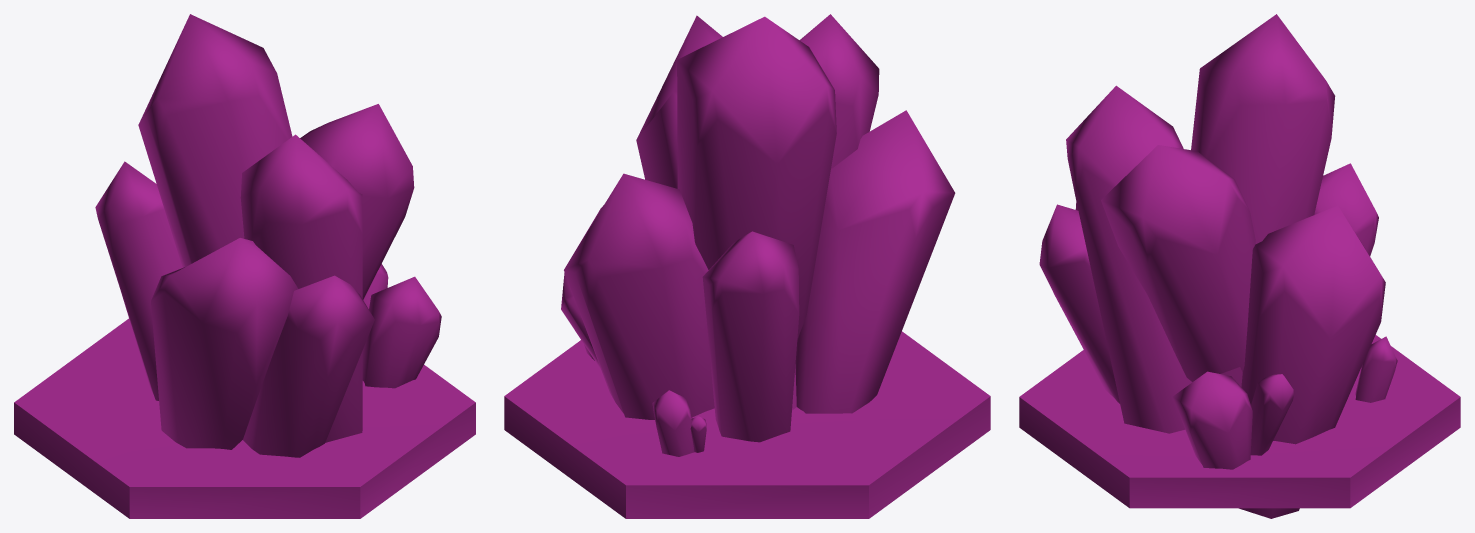
File: cristals.fbx
The picture shows the model from 3 angles, left to right: view 1: azimuth 30°, elevation 25°; view 2: azimuth 150°, elevation 25°; view 3: azimuth 270°, elevation 25°; orthographic projection. The views are drawn at different scales.
Parts seen in each view (by area): view 1: Cylinder.064, Cylinder.058, Cylinder.063, Cylinder.065, Cylinder.060, Cylinder.062, Cylinder.061, Cylinder.066; view 2: Cylinder.064, Cylinder.058, Cylinder.063, Cylinder.059, Cylinder.061, Cylinder.065, Cylinder.062, Cylinder.067, Cylinder.069; view 3: Cylinder.064, Cylinder.062, Cylinder.059, Cylinder.058, Cylinder.065, Cylinder.060, Cylinder.066, Cylinder.061, Cylinder.069, Cylinder.067.
Boxes of the visible parts, x1,y1,x2,y2 form: Cylinder.064: (14,318,475,518); Cylinder.058: (138,14,292,267); Cylinder.063: (151,238,298,449); Cylinder.065: (240,134,362,442); Cylinder.060: (243,275,374,457); Cylinder.062: (300,104,414,299); Cylinder.061: (95,161,182,400); Cylinder.066: (362,276,441,388); Cylinder.064: (504,331,990,518); Cylinder.058: (677,16,836,339); Cylinder.063: (795,110,955,413); Cylinder.059: (564,173,714,419); Cylinder.061: (702,231,799,442); Cylinder.065: (799,14,879,168); Cylinder.062: (636,15,796,410); Cylinder.067: (652,390,694,456); Cylinder.069: (561,272,600,368); Cylinder.064: (1019,335,1460,508); Cylinder.062: (1101,145,1255,381); Cylinder.059: (1239,205,1385,518); Cylinder.058: (1191,14,1335,386); Cylinder.065: (1066,85,1192,433); Cylinder.060: (1039,204,1119,403); Cylinder.066: (1172,371,1252,469); Cylinder.061: (1314,163,1378,256); Cylinder.069: (1250,374,1293,455); Cylinder.067: (1355,336,1397,402).
Size of the model in its own units: 499 by 648 by 572.
